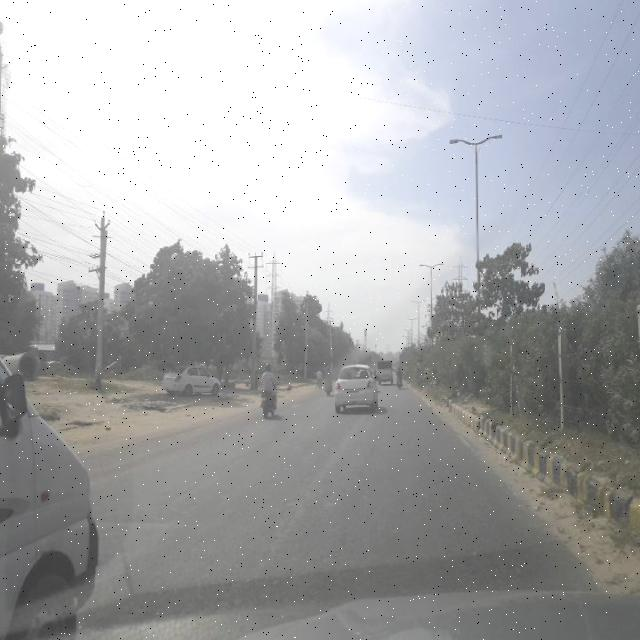D20: (131, 436, 578, 584)
